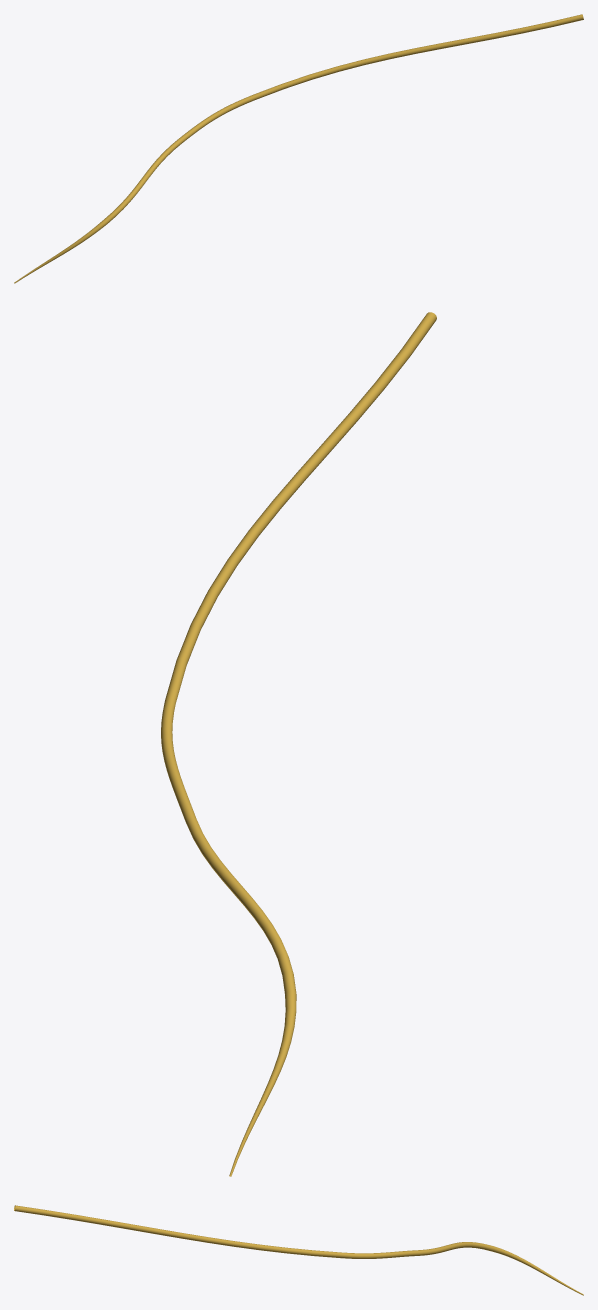
3 renders of one model, top to bottom at view 1: azimuth 90°, elevation 25°; view 2: azimuth 150°, elevation 25°; view 3: azimuth 270°, elevation 25°, orthographic. The views are drawn at different scales.
Parts seen in each view (by area): view 1: 右侧正中神经掌支; view 2: 右侧正中神经掌支; view 3: 右侧正中神经掌支.
Boxes of the visible parts, <box> form: 右侧正中神经掌支: <box>14,14,583,283</box>; 右侧正中神经掌支: <box>161,312,436,1176</box>; 右侧正中神经掌支: <box>14,1205,583,1295</box>.
Size of the model in its own units: 0.055 by 0.0505 by 0.1453.
